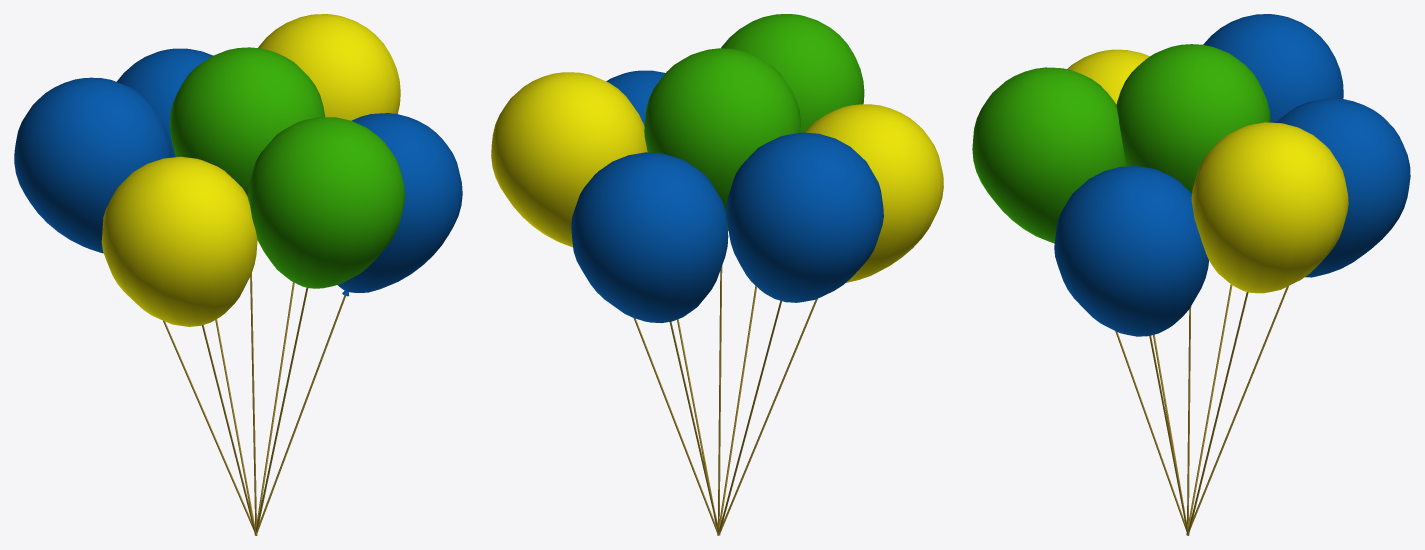
Rendered from Balloon_Group.fbx.
3 renders of one model, left to right at view 1: azimuth 30°, elevation 25°; view 2: azimuth 150°, elevation 25°; view 3: azimuth 270°, elevation 25°, orthographic.
Parts seen in each view (by area): view 1: Baloon_Group; view 2: Baloon_Group; view 3: Baloon_Group.
Part boxes in pixels (<box>): Baloon_Group: <box>14,14,462,535</box>; Baloon_Group: <box>491,14,943,535</box>; Baloon_Group: <box>972,14,1410,535</box>.
Bounding box in the file's own units: 37.82 × 47.3 × 39.01.
